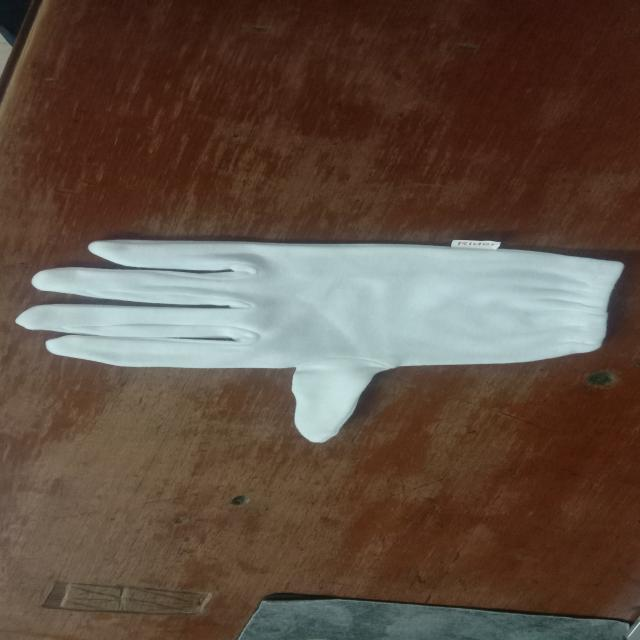gloved_hand: (17, 233, 630, 447)
